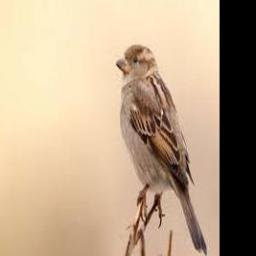Sparrow: (115, 45, 207, 255)
